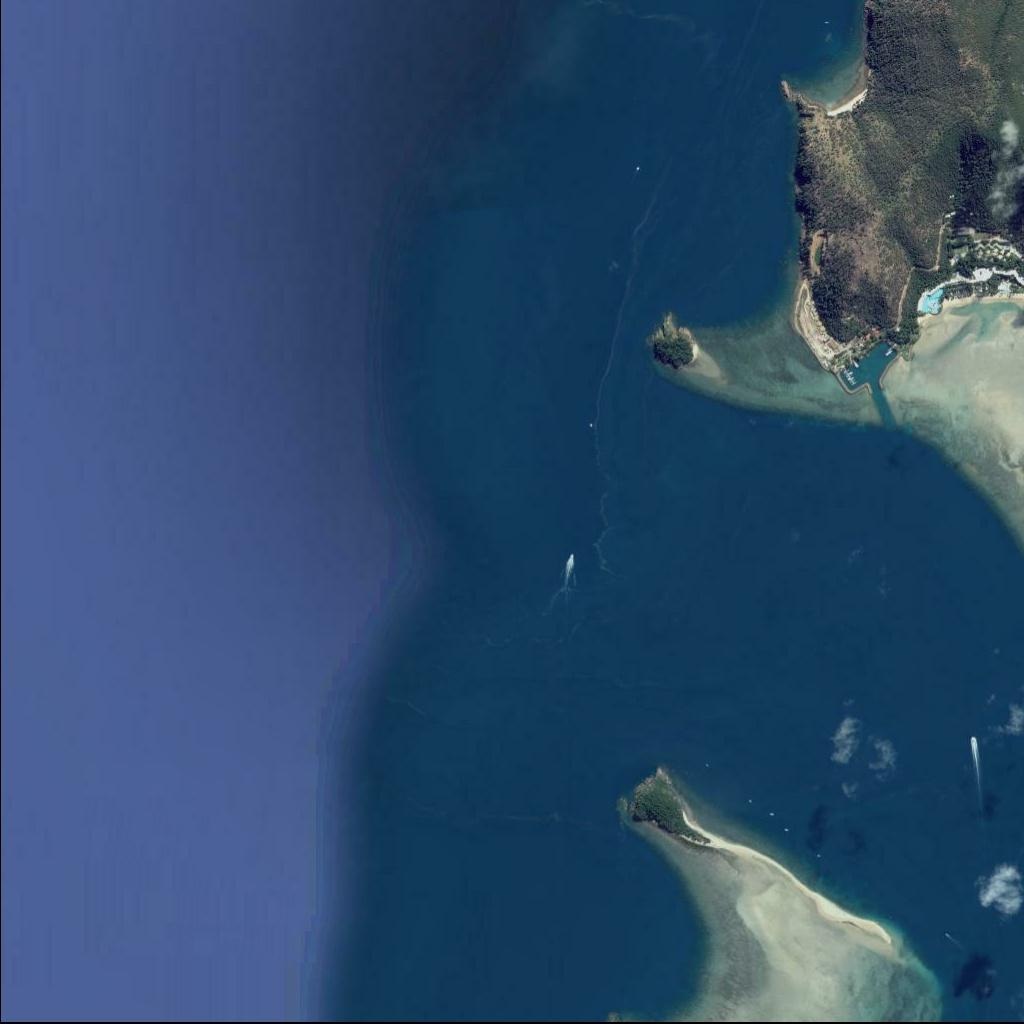harbor: (843, 369, 858, 388)
